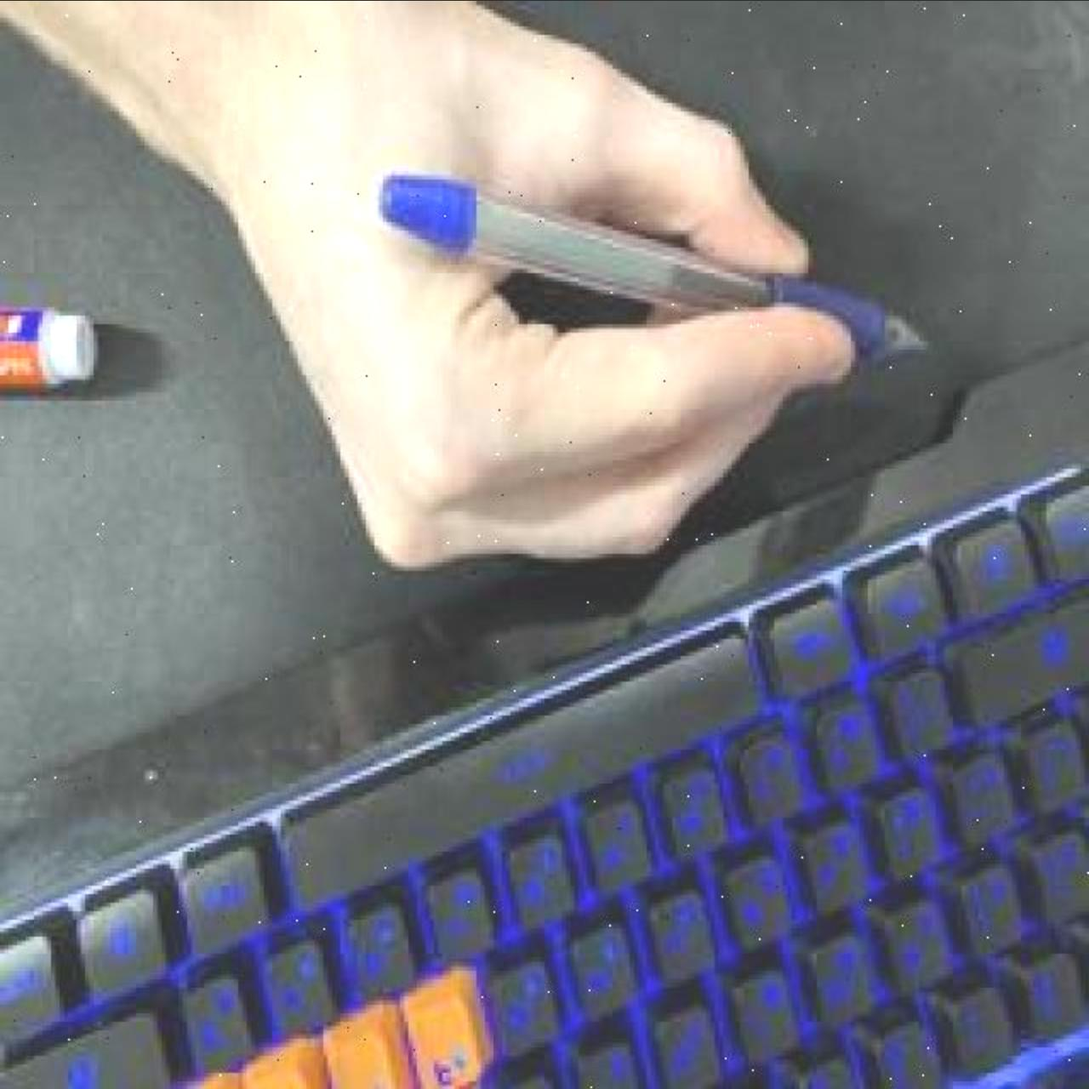pen: (374, 170, 932, 357)
